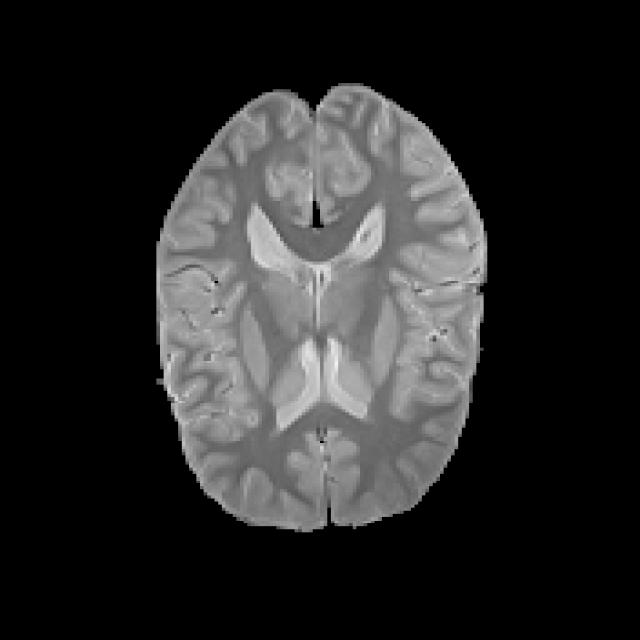parkinson: (153, 80, 487, 532)
